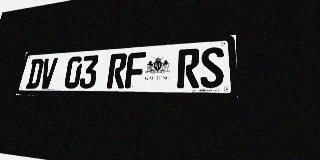0: (63, 56, 83, 88)
3: (79, 55, 99, 88)
D: (25, 58, 44, 89)
F: (124, 52, 146, 88)
R: (177, 48, 200, 88), (106, 53, 128, 88)
S: (200, 47, 224, 88)
V: (39, 58, 58, 89)
